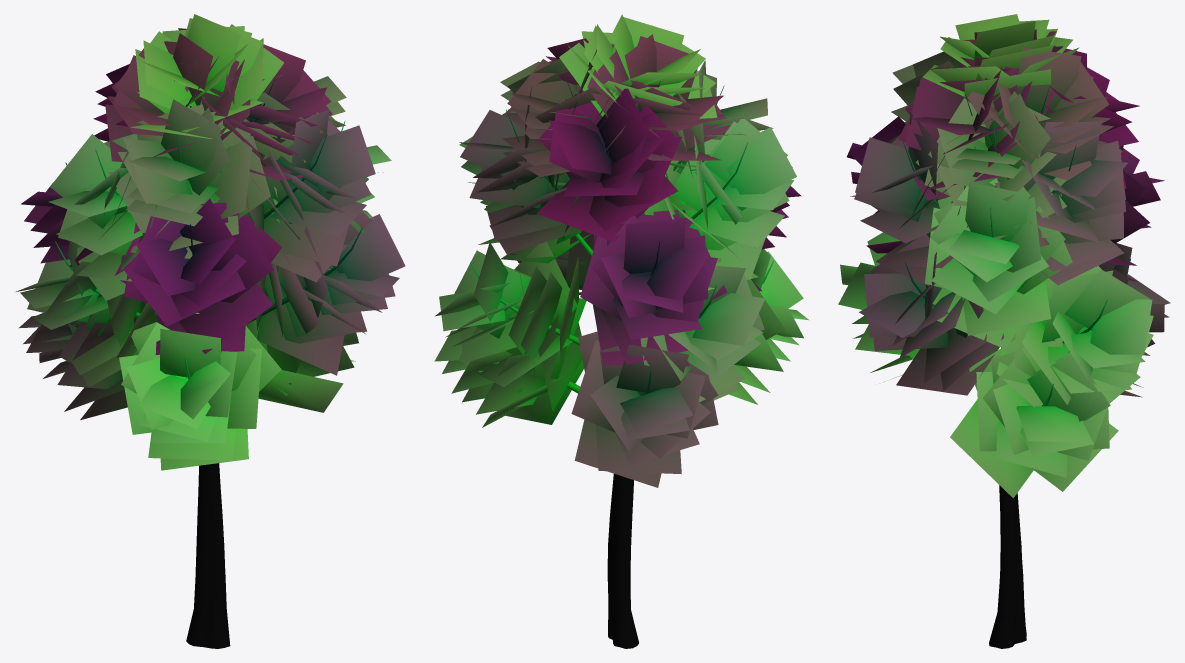
Rendered from Arbol1.fbx.
3 views of the same model, side by side, from view 1: azimuth 30°, elevation 25°; view 2: azimuth 150°, elevation 25°; view 3: azimuth 270°, elevation 25° (orthographic).
Parts seen in each view (by area): view 1: Tree_1, Tree_0; view 2: Tree_1, Tree_0; view 3: Tree_1, Tree_0.
Part boxes in pixels (<box>): Tree_1: <box>16,14,405,470</box>; Tree_0: <box>55,62,362,648</box>; Tree_1: <box>434,14,809,487</box>; Tree_0: <box>470,55,773,648</box>; Tree_1: <box>838,14,1170,498</box>; Tree_0: <box>903,87,1130,648</box>.
Bounding box in the file's own units: 261 × 475 × 231.
